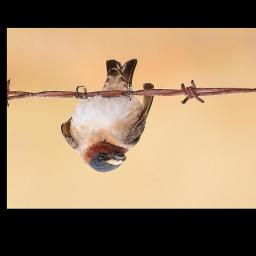Swallow: (60, 58, 155, 173)
